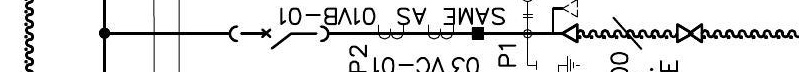22_breaker: (228, 24, 330, 51)
terminator_splicing_kits: (675, 23, 703, 44)
